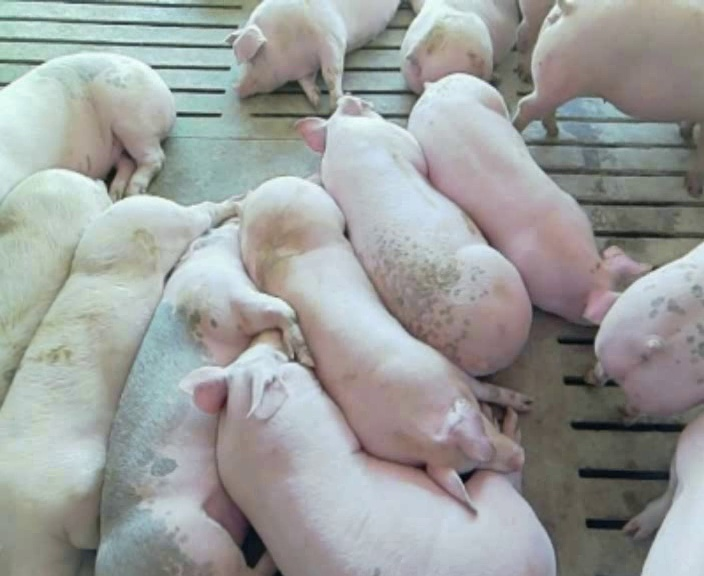pig: (240, 177, 525, 502), (0, 197, 239, 573), (98, 221, 309, 574), (298, 96, 530, 375), (408, 74, 651, 323), (0, 53, 175, 201), (0, 169, 110, 402), (513, 2, 703, 135), (587, 243, 703, 414), (226, 2, 398, 106), (622, 415, 703, 574), (401, 1, 518, 93)
